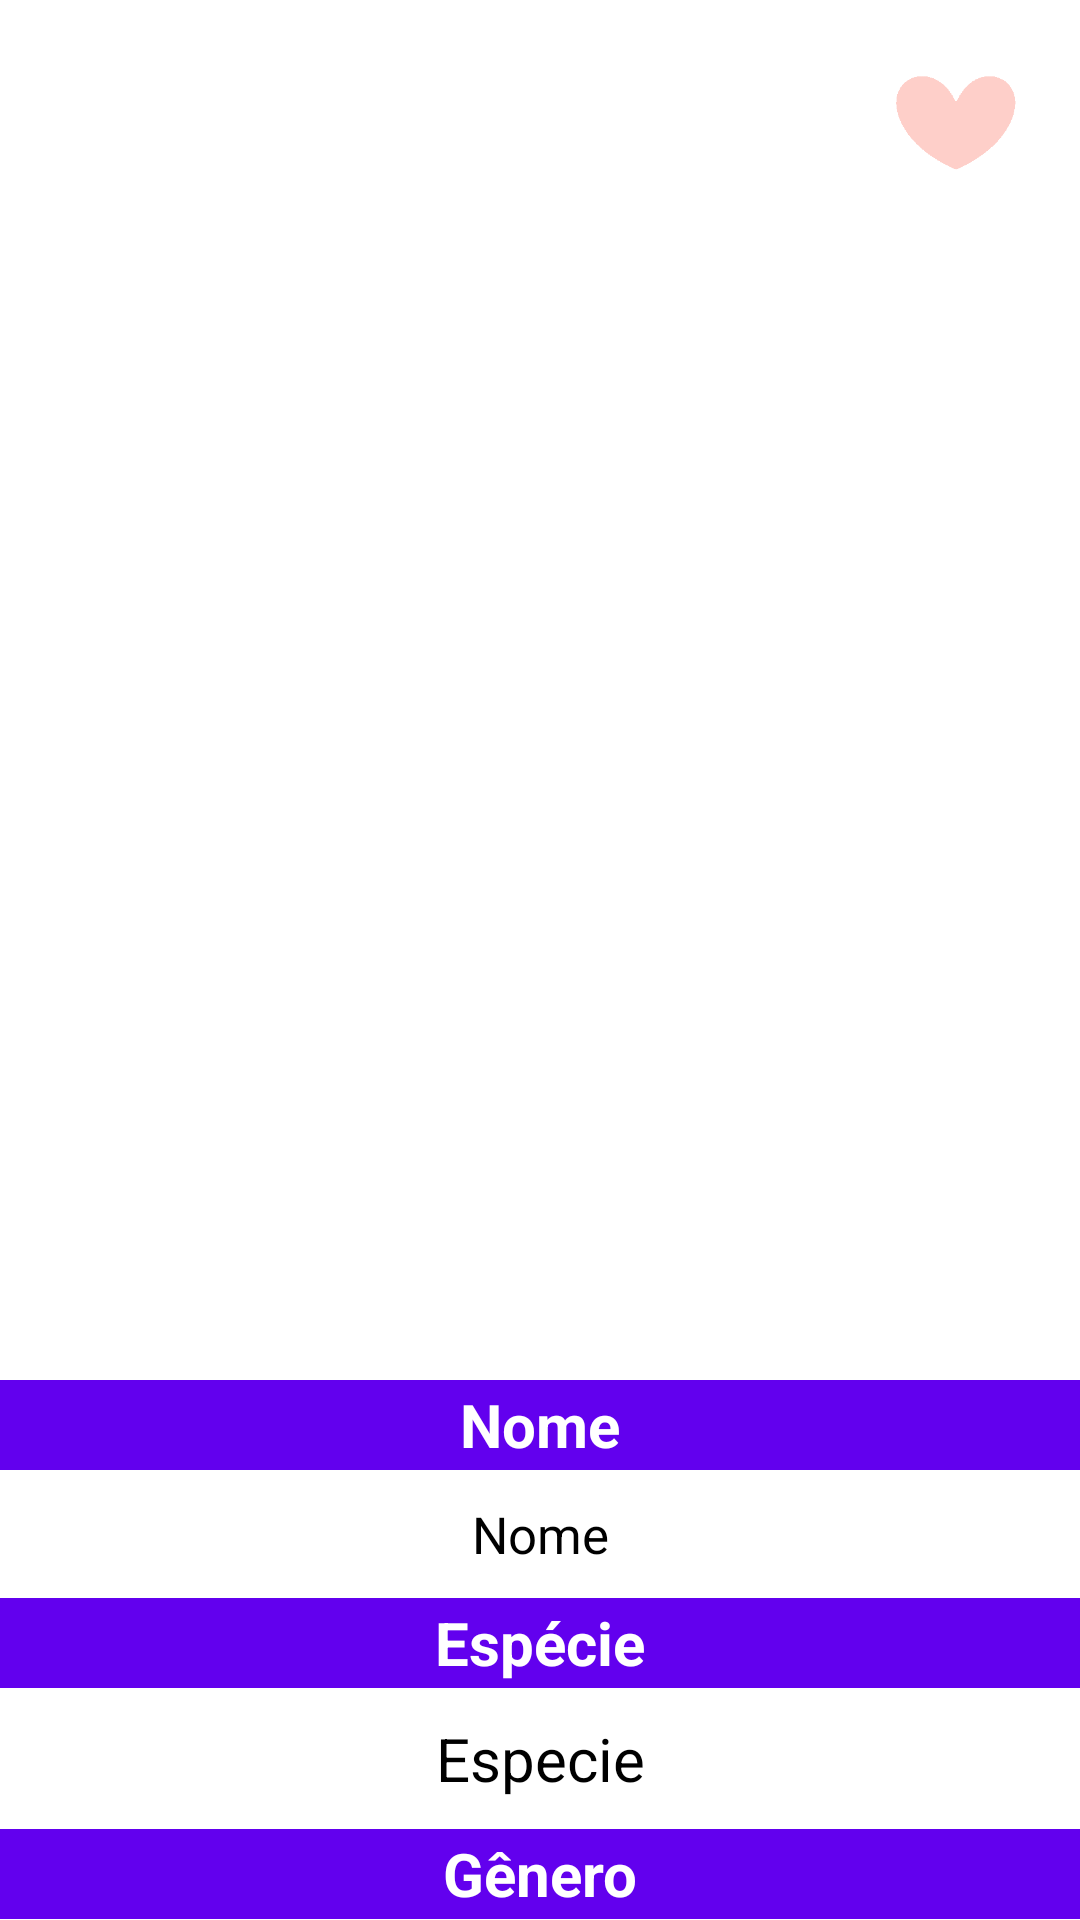

Named icons in this screenshot (1080px×1920px) and their bounding boxes, [x1, y1, x2, y2]:
fav: [896, 76, 1016, 169]
